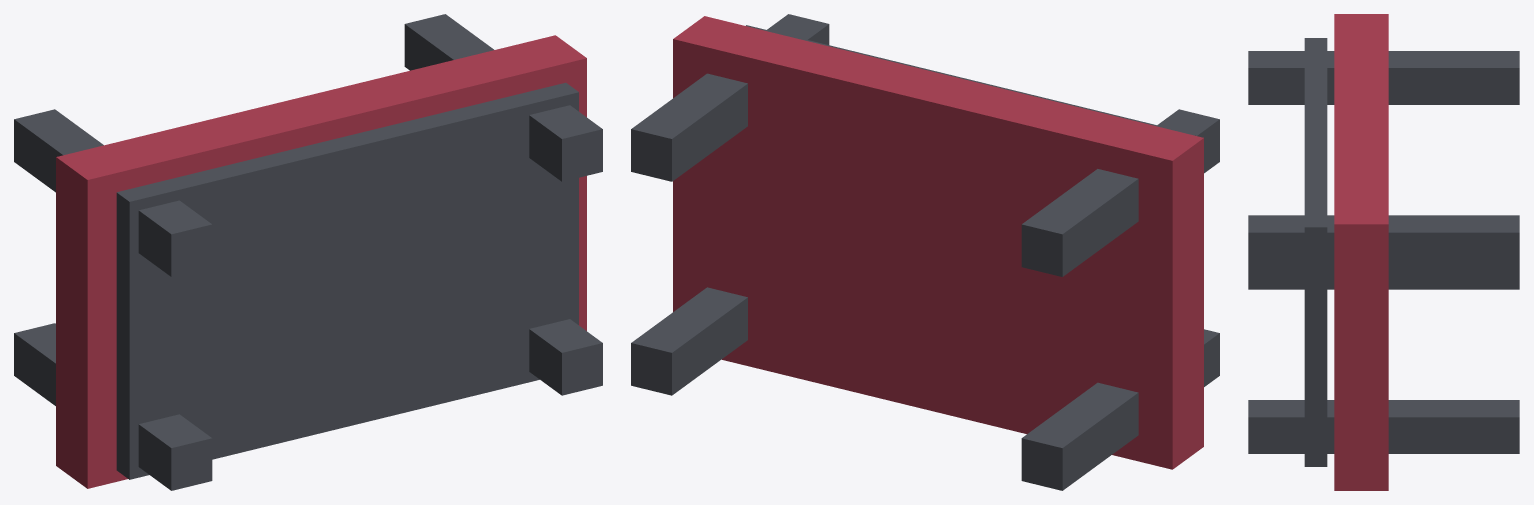
File: equipment_case_v01.glb
3 views of the same model, side by side, from view 1: azimuth 30°, elevation 25°; view 2: azimuth 150°, elevation 25°; view 3: azimuth 270°, elevation 25° (orthographic). The views are drawn at different scales.
Visible parts, largest first — view 1: box_5, box_0, box_2, box_4, box_1, box_3; view 2: box_0, box_2, box_4, box_1, box_3, box_5; view 3: box_0, box_4, box_2, box_3, box_5, box_1.
Boxes of the visible parts, x1=… form: box_5: x1=116, y1=82, x2=578, y2=479; box_0: x1=56, y1=35, x2=586, y2=488; box_2: x1=14, y1=109, x2=212, y2=276; box_4: x1=404, y1=14, x2=602, y2=181; box_1: x1=14, y1=323, x2=212, y2=490; box_3: x1=529, y1=319, x2=602, y2=395; box_0: x1=673, y1=16, x2=1203, y2=469; box_2: x1=1021, y1=109, x2=1219, y2=276; box_4: x1=631, y1=14, x2=829, y2=181; box_1: x1=1021, y1=329, x2=1219, y2=490; box_3: x1=631, y1=287, x2=747, y2=395; box_5: x1=746, y1=25, x2=1195, y2=135; box_0: x1=1334, y1=14, x2=1388, y2=490; box_4: x1=1248, y1=215, x2=1519, y2=269; box_2: x1=1248, y1=51, x2=1519, y2=104; box_3: x1=1248, y1=400, x2=1519, y2=453; box_5: x1=1304, y1=38, x2=1327, y2=466; box_1: x1=1248, y1=269, x2=1519, y2=289.
Bounding box in the file's own units: 1.1 × 0.65 × 0.6.
